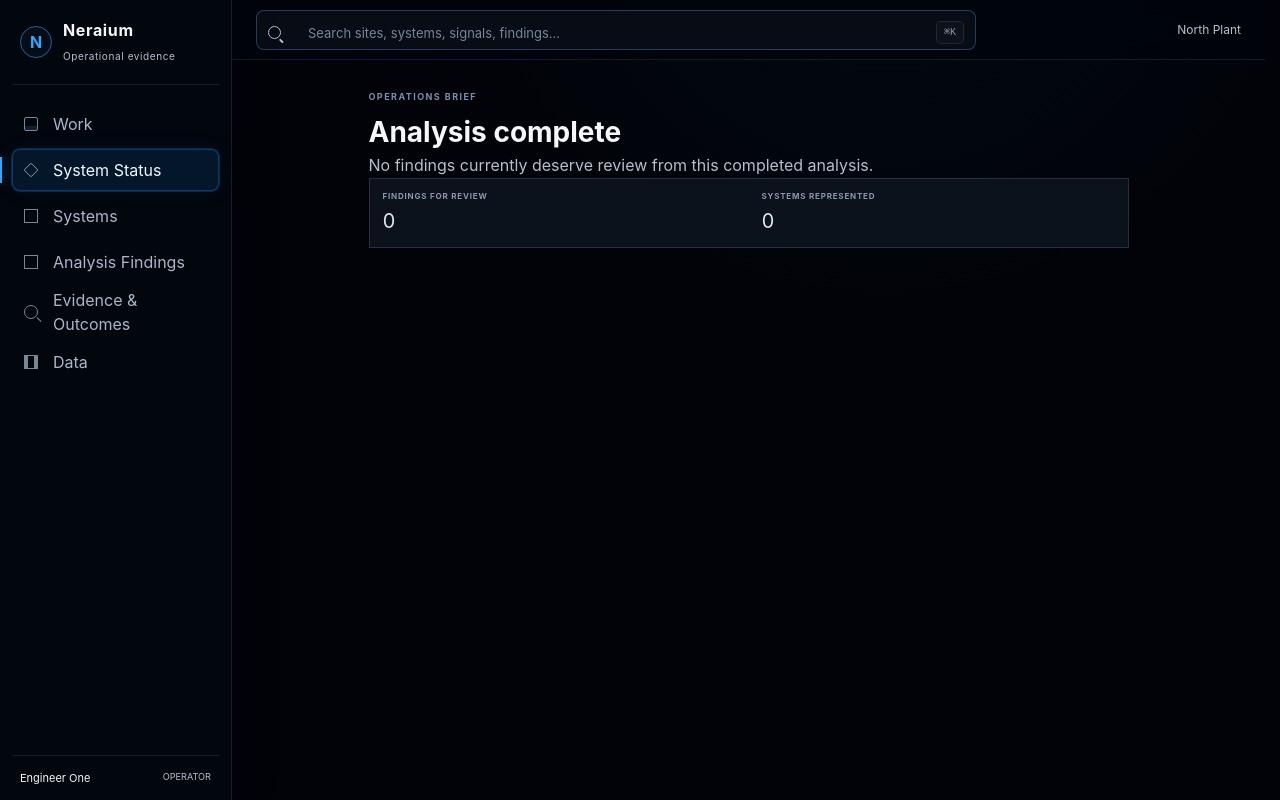
Test case: EngineeringReasoningWorkspace daily workflows › keeps resolved findings out of every triage list without claiming the system is stable
Expected: the heading "Analysis complete" is shown, 368,115 -> 621,149
Expected: the text "No findings currently deserve review from this completed analysis." is shown, 368,155 -> 873,175
Click the button "Analysis Findings": (116, 262) 12,241 -> 219,283
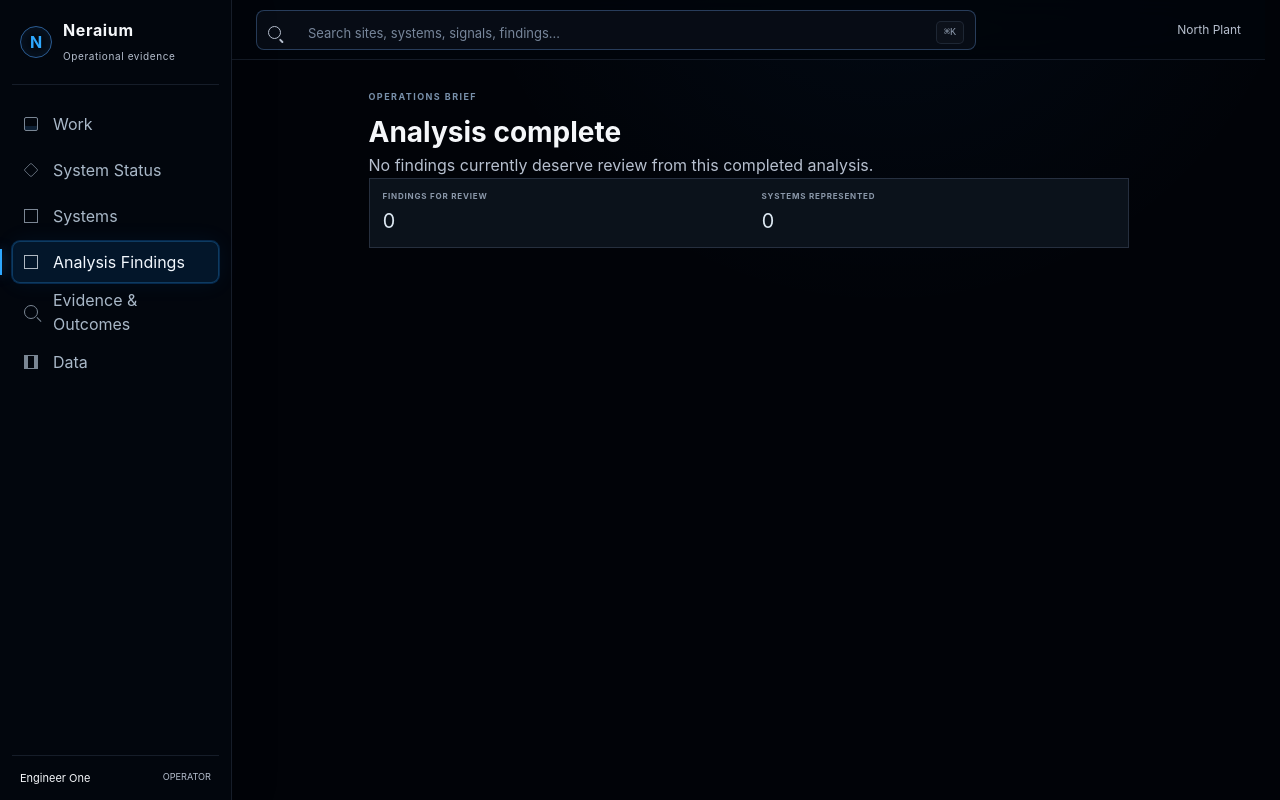
Expected: the text "No findings currently deserve review from this completed analysis." is shown, 368,155 -> 873,175
Click the button "Evidence & Outcomes": (116, 312) 12,287 -> 219,337
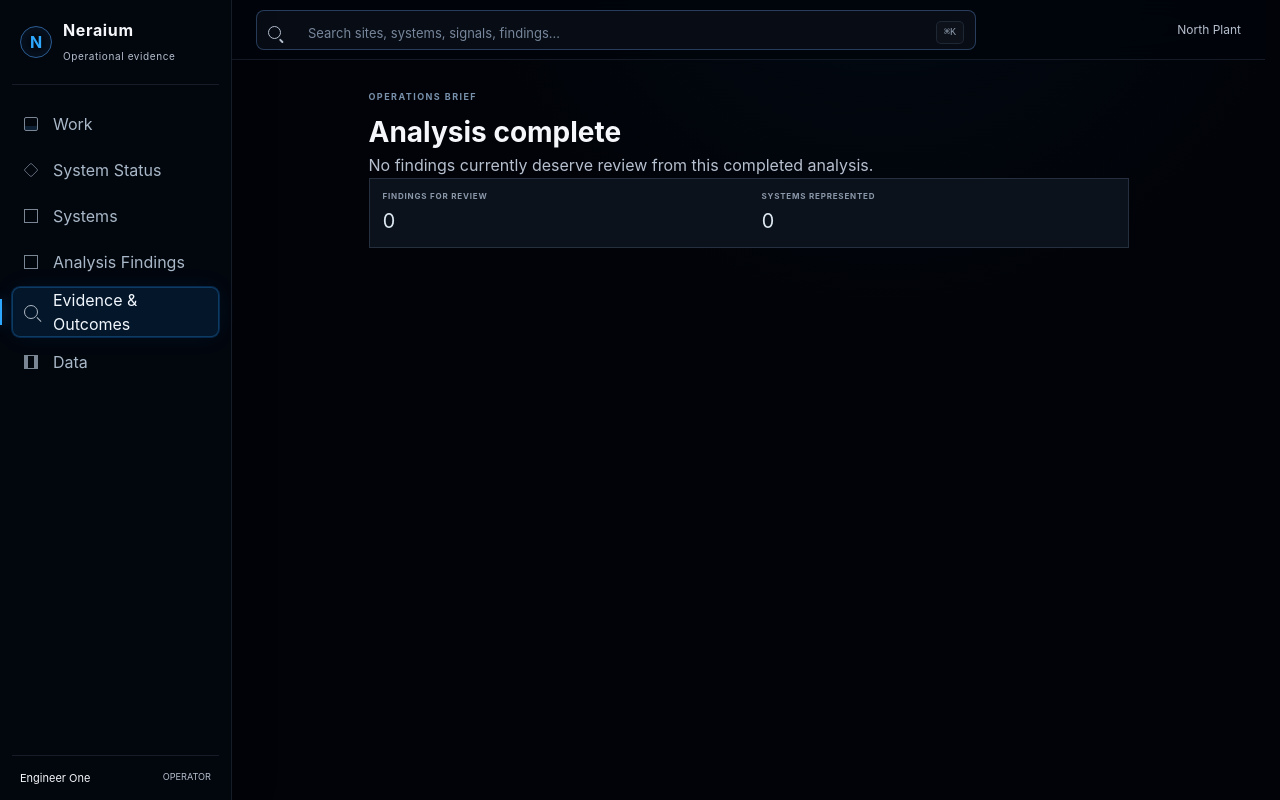
Expected: the text "No findings currently deserve review from this completed analysis." is shown, 368,155 -> 873,175
Click the button "Systems": (116, 216) 12,195 -> 219,237
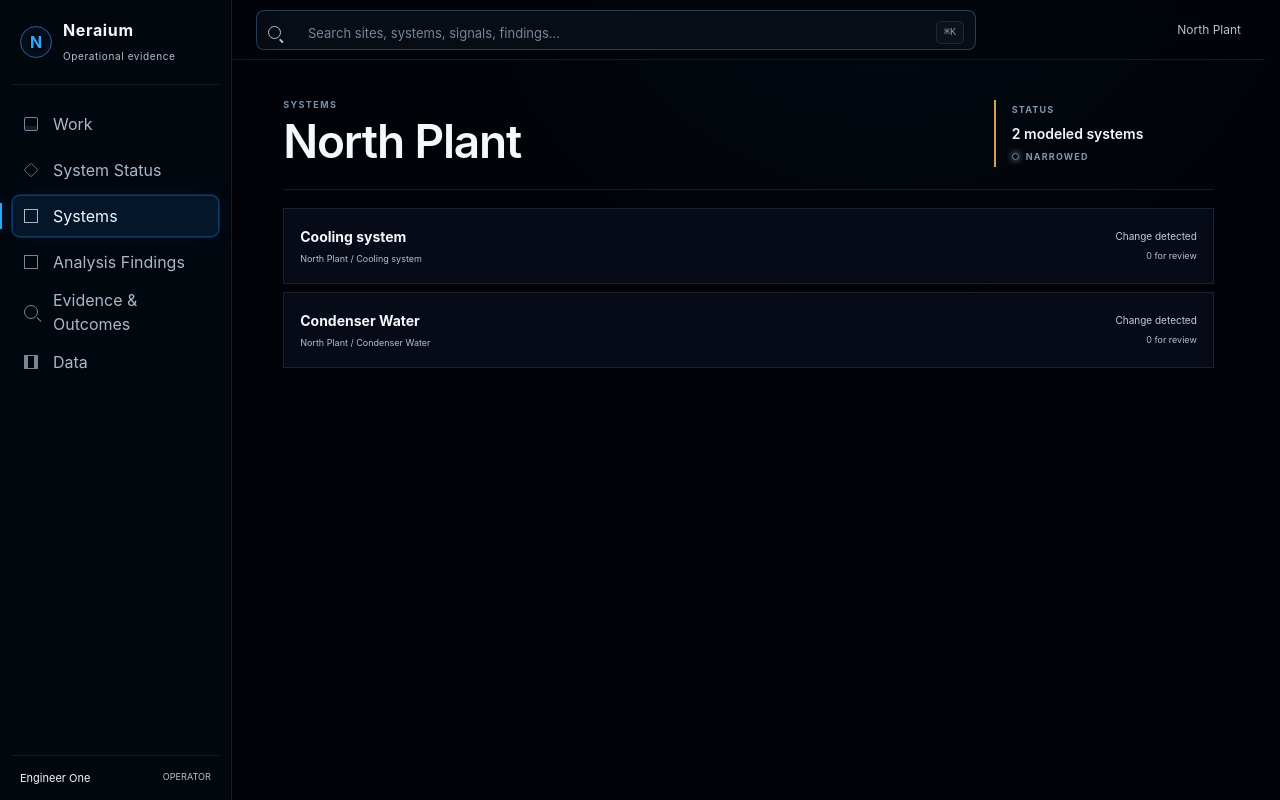
Expected: the 1st text "0 for review" is shown, 1146,249 -> 1197,262
Click the button "Cooling system": (353, 236) 283,208 -> 1214,284
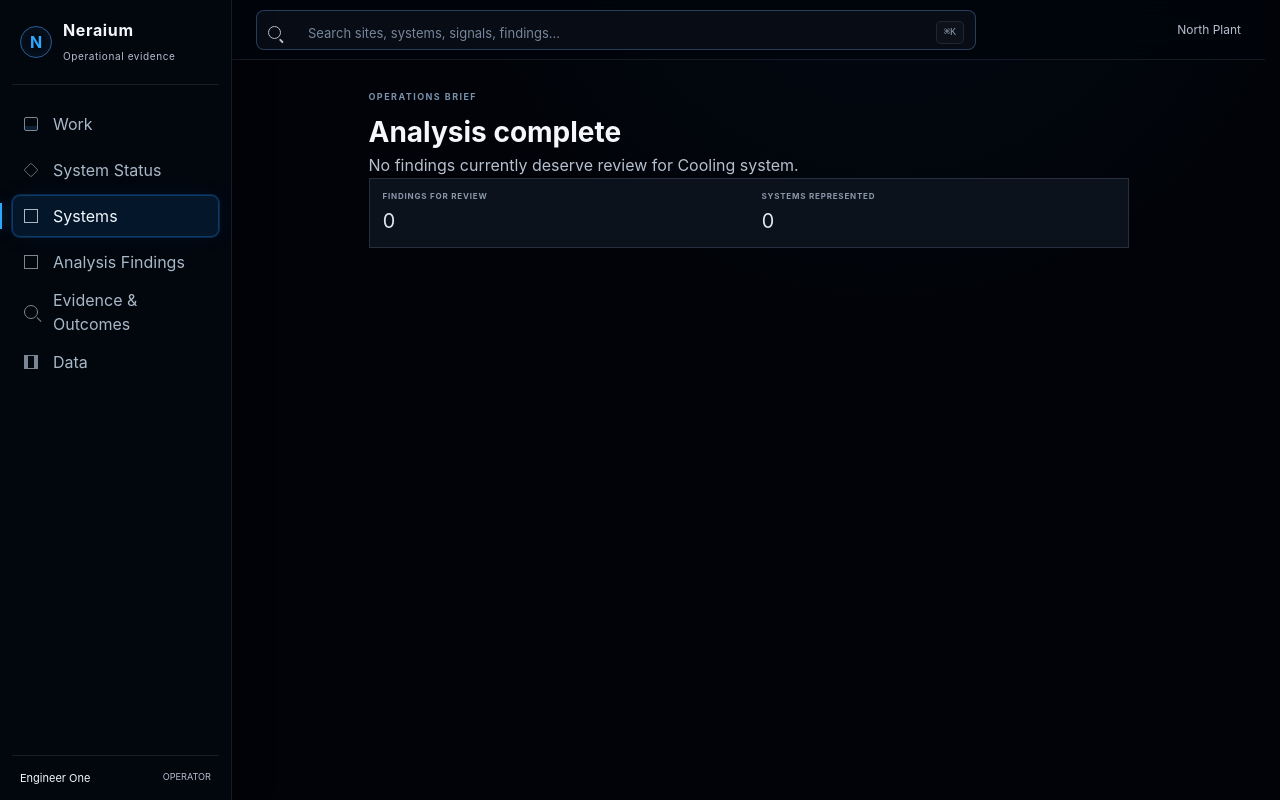
Expected: the text "No findings currently deserve review for Cooling system." is shown, 368,155 -> 799,175
